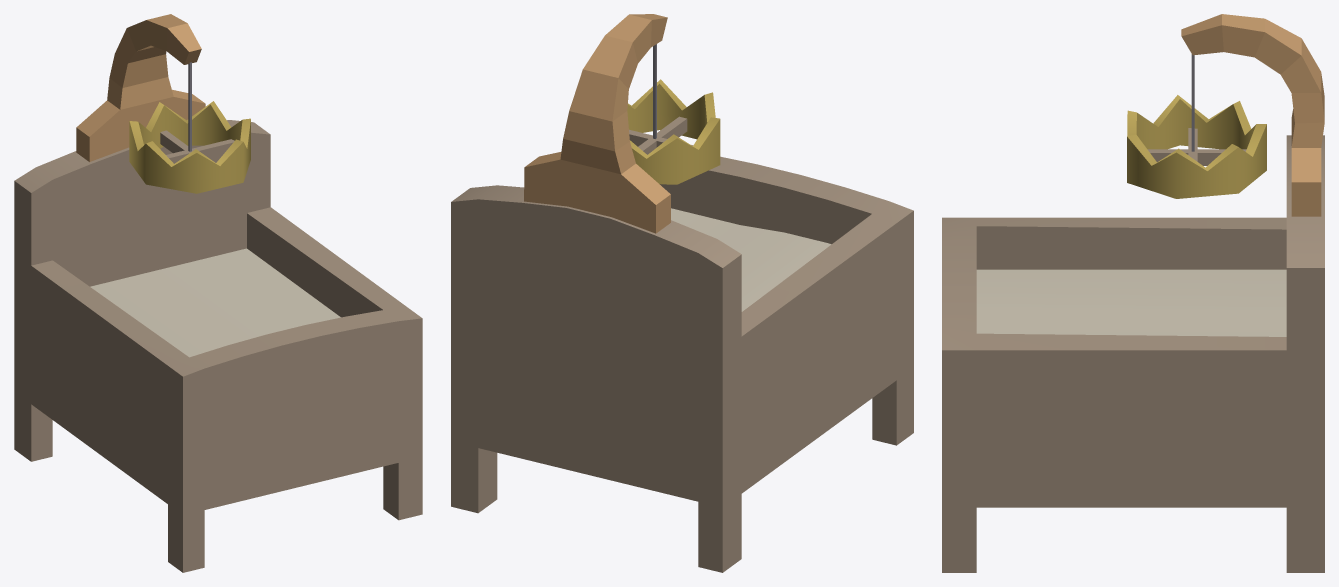
The model's file is Crib_Repaired.FBX.
3 renders of one model, left to right at view 1: azimuth 30°, elevation 25°; view 2: azimuth 150°, elevation 25°; view 3: azimuth 270°, elevation 25°, orthographic. The views are drawn at different scales.
Visible parts, largest first — view 1: Box061; view 2: Box061; view 3: Box061.
Boxes of the visible parts, left/top/right/bottom form: Box061: left=14, top=14, right=422, bottom=572; Box061: left=451, top=14, right=913, bottom=572; Box061: left=942, top=14, right=1324, bottom=572.
Size of the model in its own units: 41.75 by 71.32 by 50.91.
